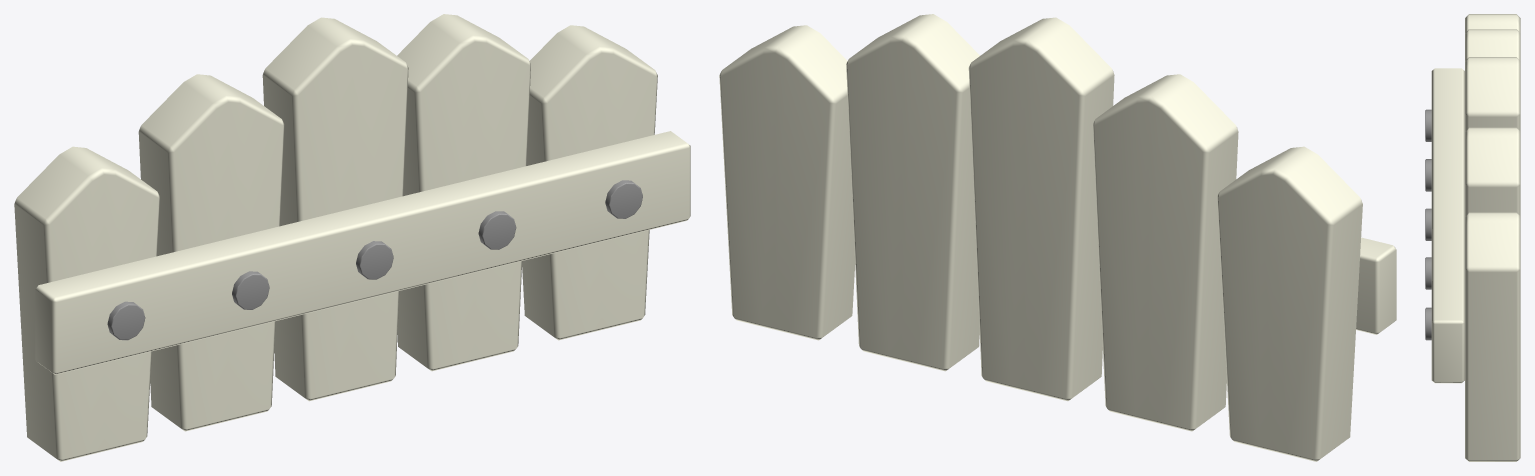
Rendered from Town_7_Fence_1.glb.
3 renders of one model, left to right at view 1: azimuth 30°, elevation 25°; view 2: azimuth 150°, elevation 25°; view 3: azimuth 270°, elevation 25°, orthographic. The views are drawn at different scales.
Visible parts, largest first — view 1: Town_7_Fence_1; view 2: Town_7_Fence_1; view 3: Town_7_Fence_1.
Boxes of the visible parts, x1,y1,x2,y2 form: Town_7_Fence_1: (14,14,690,461); Town_7_Fence_1: (719,14,1396,461); Town_7_Fence_1: (1425,14,1520,461).
Size of the model in its own units: 1.69 by 0.8893 by 0.267.
1 material, 1 textured.
